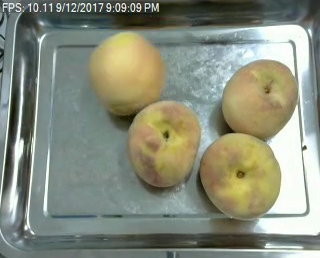Peach: (199, 133, 281, 217), (126, 99, 200, 188), (89, 31, 165, 116), (220, 57, 297, 139)
